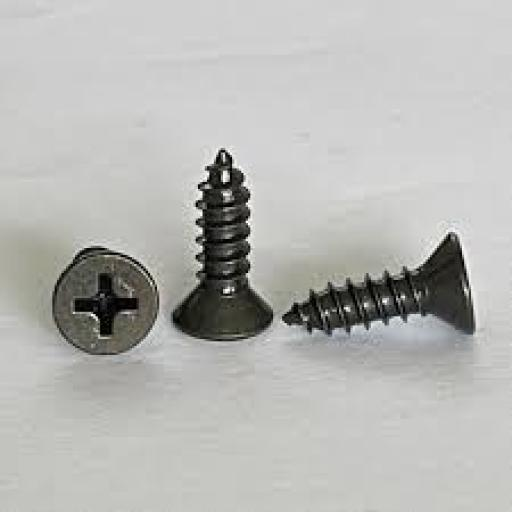Phillips: (54, 247, 161, 360)
